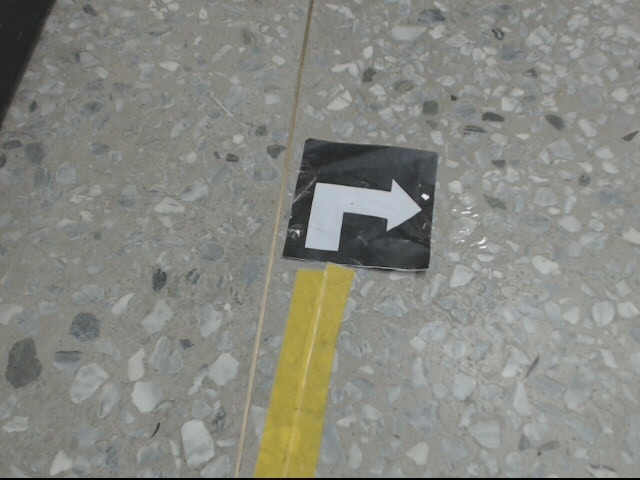right: (283, 138, 440, 270)
